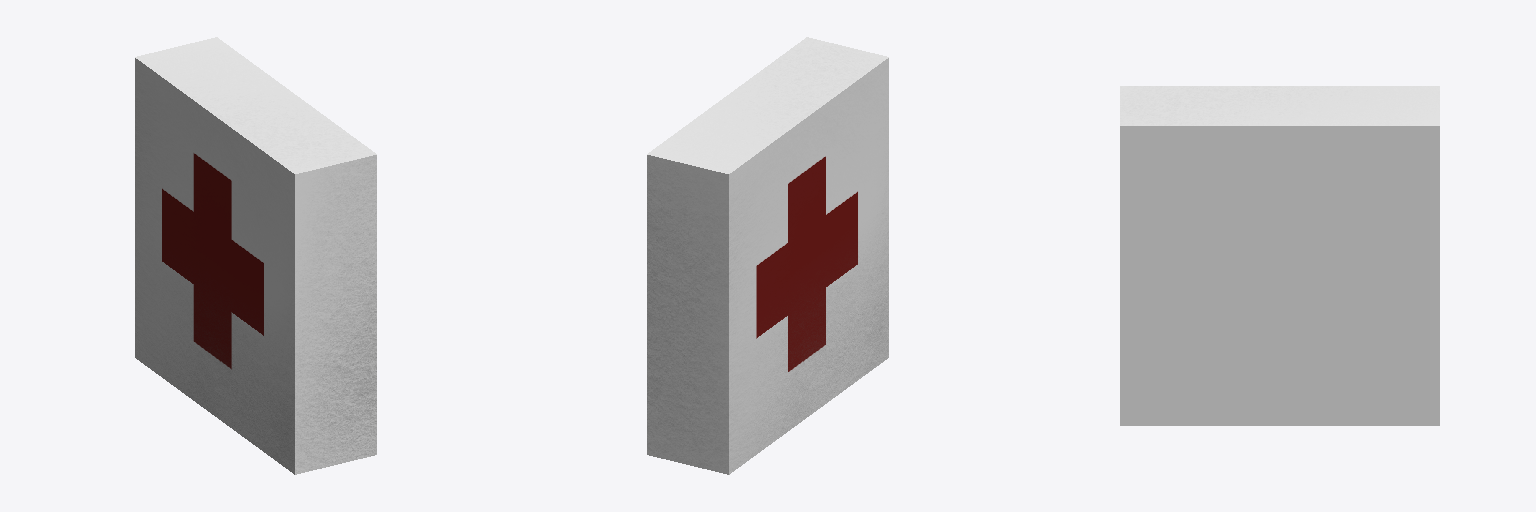
3 views of the same model, side by side, from view 1: azimuth 30°, elevation 25°; view 2: azimuth 150°, elevation 25°; view 3: azimuth 270°, elevation 25° (orthographic).
Visible parts, largest first — view 1: firstaid; view 2: firstaid; view 3: firstaid.
Part boxes in pixels (x1,y1,x2,y2): firstaid: (135,37,376,474); firstaid: (647,37,888,474); firstaid: (1120,86,1439,425).
Size of the model in its own units: 0.0939 by 0.3273 by 0.3168.
Materials: 1 (1 with a texture image).